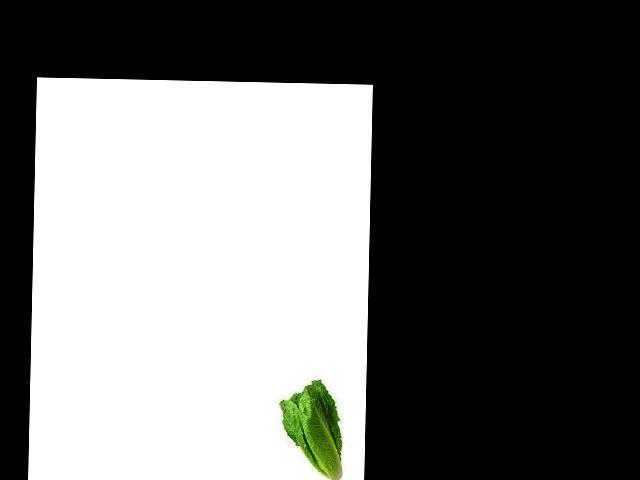lettuce: (272, 363, 365, 472)
